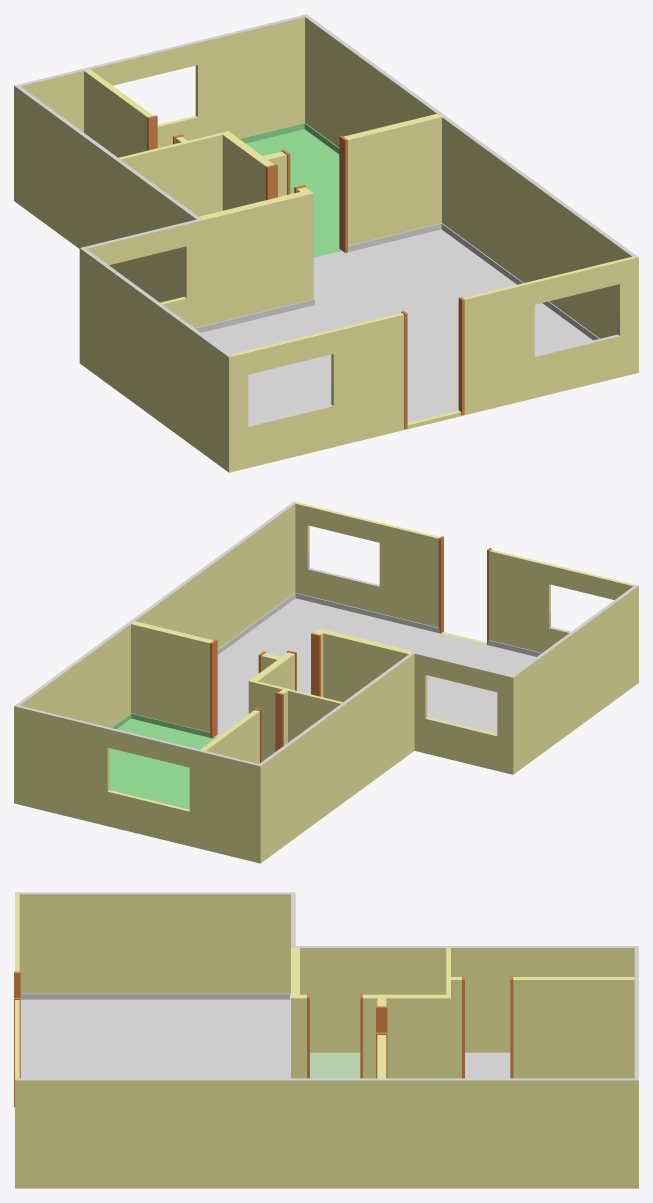
The model's file is MP_Environ_Updated_HDB.fbx.
The picture shows the model from 3 angles, top to bottom: view 1: azimuth 30°, elevation 25°; view 2: azimuth 150°, elevation 25°; view 3: azimuth 270°, elevation 25°; orthographic projection. The views are drawn at different scales.
Visible parts, largest first — view 1: Player_Flat, LivingRoom_Slice, BombShelter_Slice, Bathroom_Slice, Bedroom_Slice2, Bedroom_Slice; view 2: Player_Flat, LivingRoom_Slice, Bedroom_Slice2, Bathroom_Slice, BombShelter_Slice, Bedroom_Slice; view 3: Player_Flat, Bathroom_Slice, Bedroom_Slice, BombShelter_Slice, LivingRoom_Slice, Bedroom_Slice2.
Boxes of the visible parts, x1,y1,x2,y2 form: Player_Flat: [14, 14, 638, 472]; LivingRoom_Slice: [231, 256, 634, 411]; BombShelter_Slice: [199, 185, 313, 275]; Bathroom_Slice: [84, 69, 190, 201]; Bedroom_Slice2: [339, 114, 441, 196]; Bedroom_Slice: [188, 131, 290, 205]; Player_Flat: [14, 501, 638, 863]; LivingRoom_Slice: [295, 502, 634, 612]; Bedroom_Slice2: [131, 621, 217, 690]; Bathroom_Slice: [200, 688, 342, 762]; BombShelter_Slice: [311, 628, 412, 689]; Bedroom_Slice: [248, 650, 296, 734]; Player_Flat: [14, 892, 638, 1188]; Bathroom_Slice: [446, 948, 634, 1032]; Bedroom_Slice: [360, 980, 450, 1051]; BombShelter_Slice: [291, 948, 309, 1050]; LivingRoom_Slice: [14, 894, 20, 1078]; Bedroom_Slice2: [376, 1032, 387, 1078].
Size of the model in its own units: 743 by 202 by 1045.
